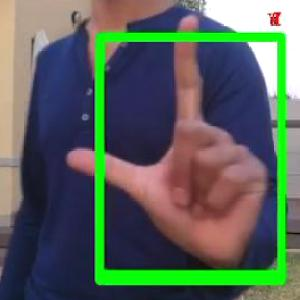land_hand: (58, 5, 286, 277)
